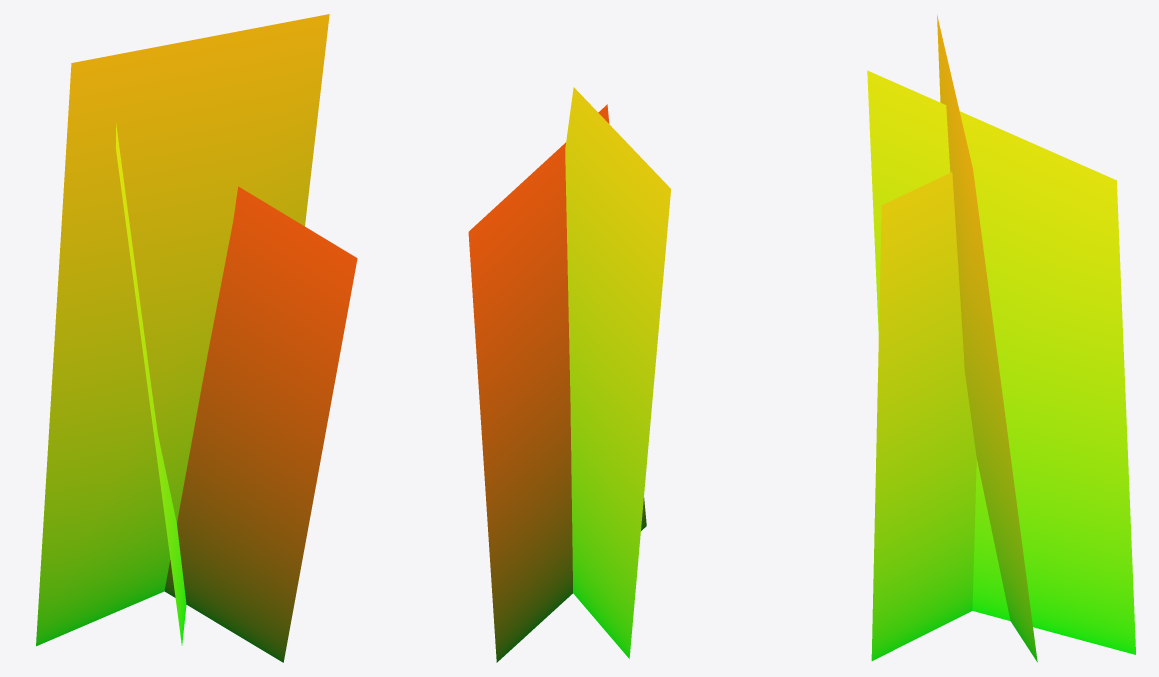
File: PT_Grass_01.glb
3 views of the same model, side by side, from view 1: azimuth 30°, elevation 25°; view 2: azimuth 150°, elevation 25°; view 3: azimuth 270°, elevation 25° (orthographic). The views are drawn at different scales.
Visible parts, largest first — view 1: PT_Grass_01_LOD0; view 2: PT_Grass_01_LOD0; view 3: PT_Grass_01_LOD0.
Boxes of the visible parts, <box> form: PT_Grass_01_LOD0: <box>36,14,357,662</box>; PT_Grass_01_LOD0: <box>468,87,670,662</box>; PT_Grass_01_LOD0: <box>867,15,1135,662</box>.
Size of what is drawn, in the model's own units: 0.4033 by 0.7471 by 0.4578.
Materials: 1 (1 with a texture image).
